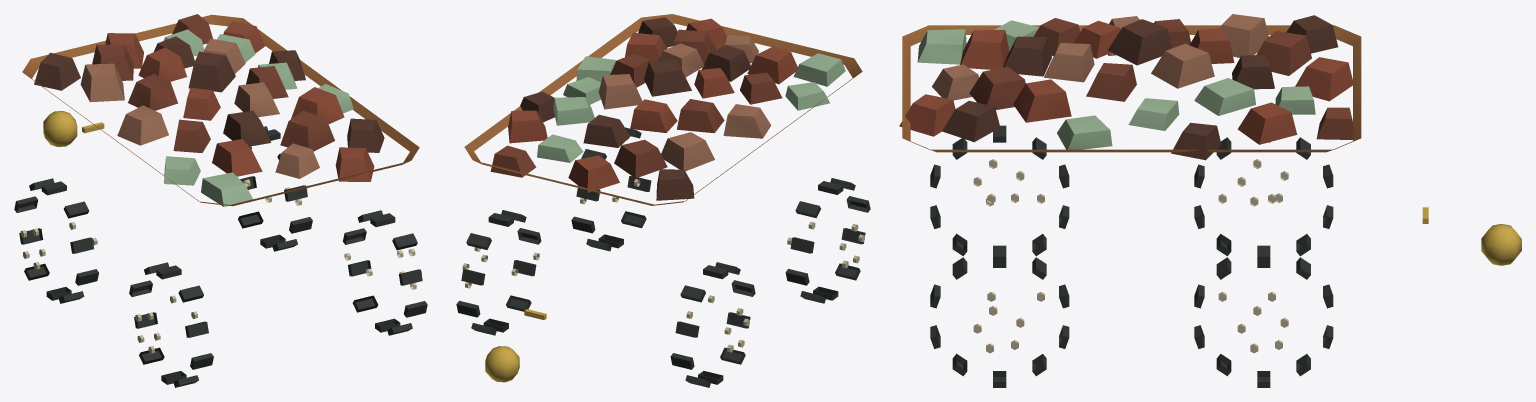
Rendered from ore_cart_detail2.glb.
3 views of the same model, side by side, from view 1: azimuth 30°, elevation 25°; view 2: azimuth 150°, elevation 25°; view 3: azimuth 270°, elevation 25° (orthographic). The views are drawn at different scales.
Visible parts, largest first — view 1: Detail2; view 2: Detail2; view 3: Detail2.
Boxes of the visible parts, box(x1,y1,x2,y2) form: Detail2: box(14, 14, 427, 387); Detail2: box(456, 14, 870, 387); Detail2: box(899, 14, 1521, 387).
Bounding box in the file's own units: 2.13 × 1.93 × 3.77.
